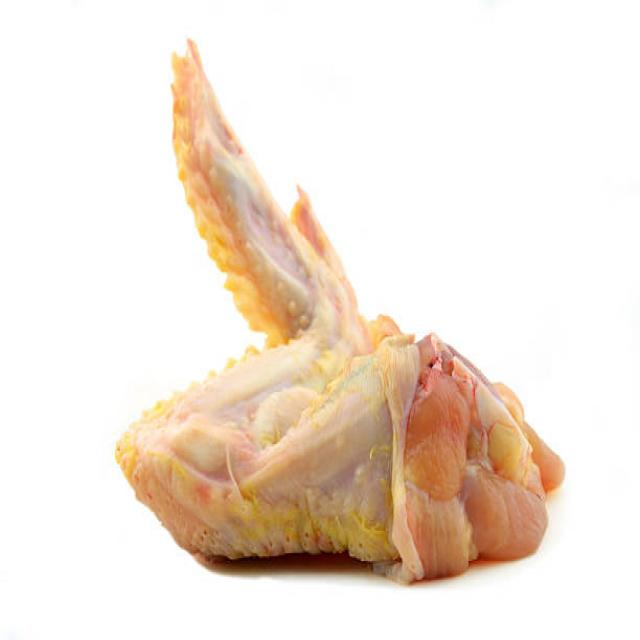Chicken Wing: (107, 39, 566, 584)
